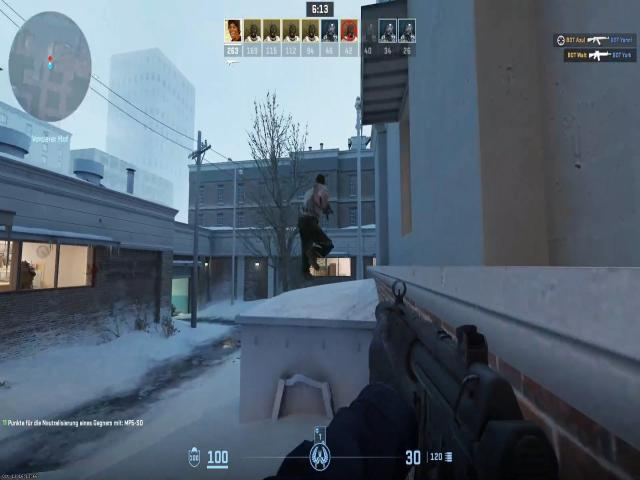CT: (20, 260, 34, 290)
CT-Head: (20, 258, 29, 274)
T: (301, 190, 327, 225)
T-Head: (308, 174, 329, 193)
